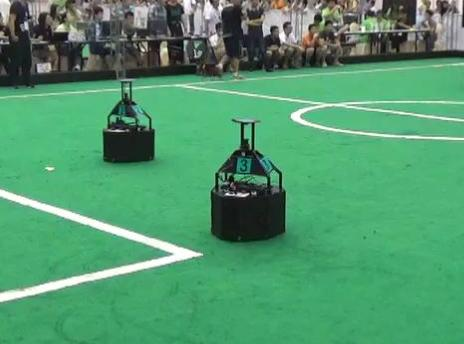robot: (206, 115, 289, 242), (100, 77, 156, 163)
